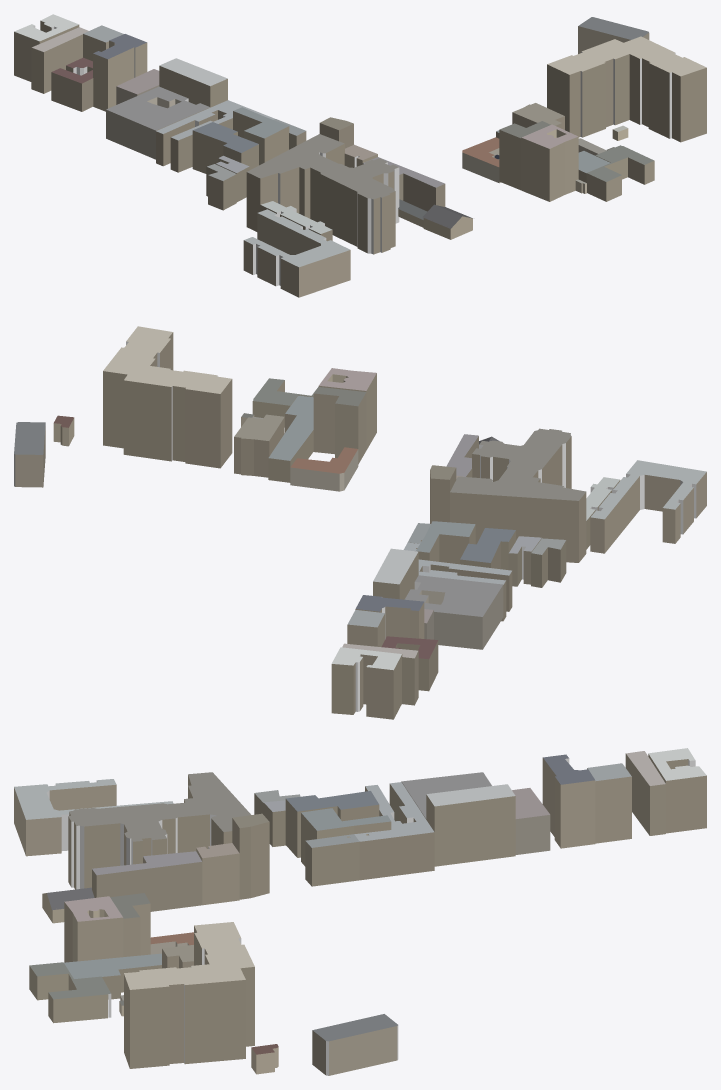
The picture shows the model from 3 angles, top to bottom: view 1: azimuth 30°, elevation 25°; view 2: azimuth 150°, elevation 25°; view 3: azimuth 270°, elevation 25°; orthographic projection. The views are drawn at different scales.
Parts seen in each view (by area): view 1: tuile; view 2: tuile; view 3: tuile.
Part boxes in pixels (x1=…): tuile: x1=14, y1=14, x2=706, y2=297; tuile: x1=14, y1=326, x2=706, y2=719; tuile: x1=14, y1=748, x2=706, y2=1075.
Bounding box in the file's own units: 250 × 40.31 × 254.
